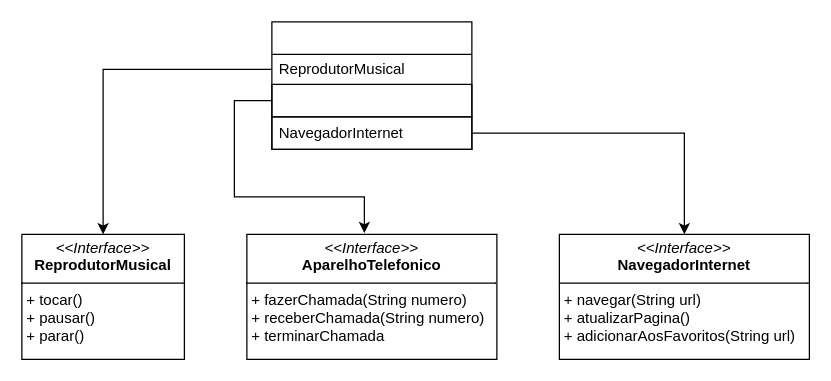
Some shapes in this 831 by 381 pixel diagram are drawn without their labels. Here are the shapes that lost their labels. From the top down, the box of each, then its label:
(271, 21, 472, 149): iPhone
(271, 83, 472, 117): AparelhoTelefonico
